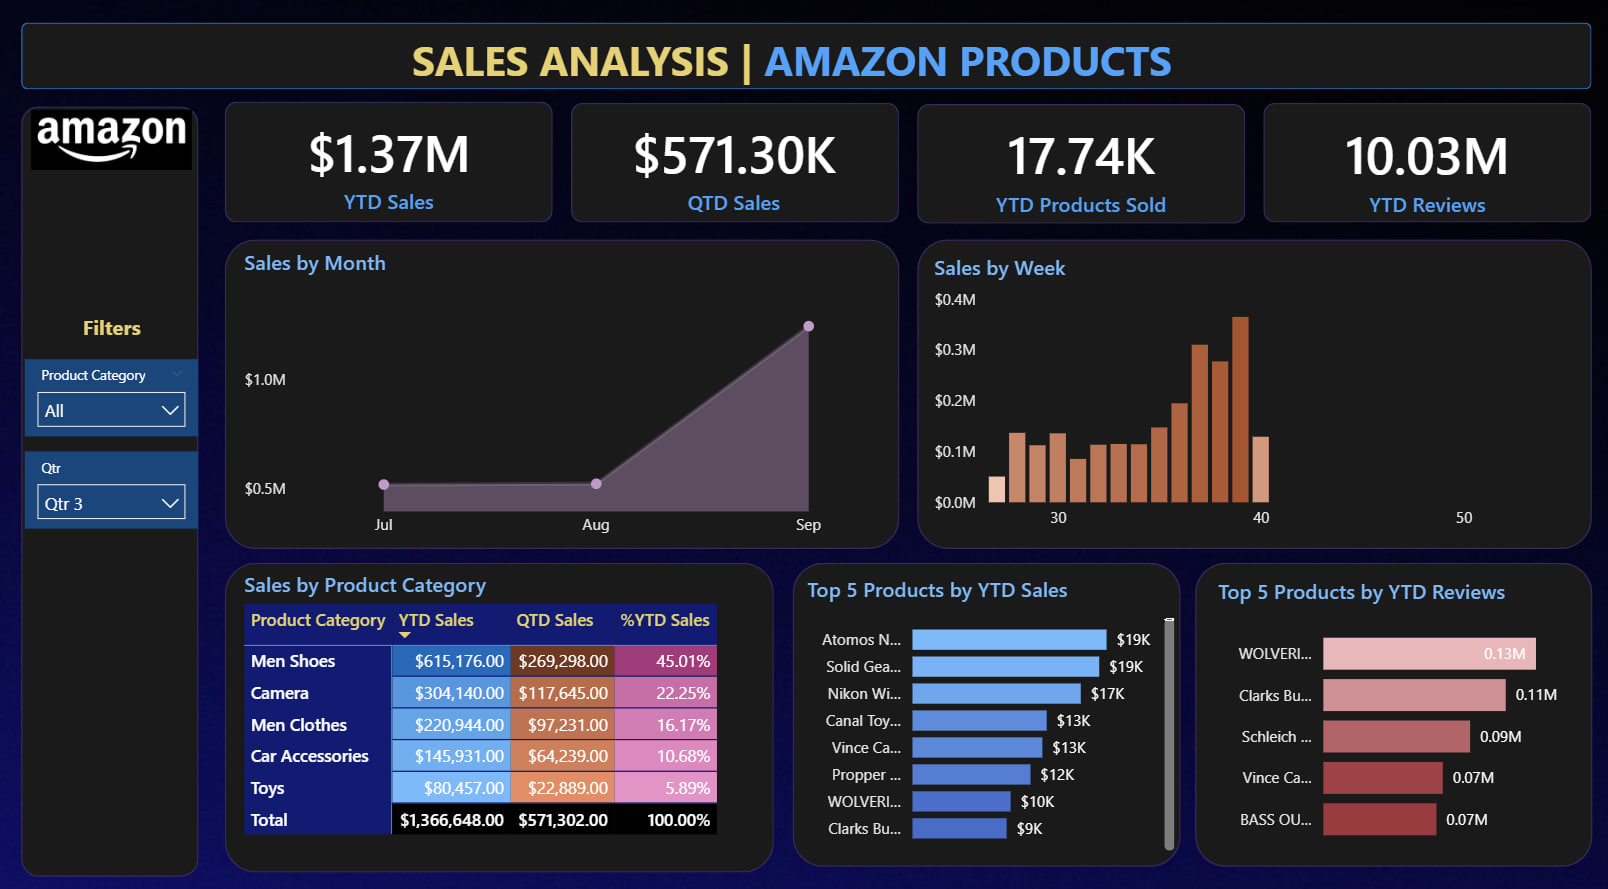

What the dashboard file says about the page in this screenshot:
{"tool":"powerbi","page":{"name":"Page 1","canvas":[1280,720],"ordinal":0},"visuals":[{"type":"card","fields":{"Values":["Amazon_Data.YTD Sales"]},"box":[180.9,86.4,259.1,96.4],"z":0,"group":"g1"},{"type":"shape","box":[20,88.2,140,608.2],"z":0},{"type":"card","fields":{"Values":["Amazon_Data.QTD Sales"]},"box":[453.6,87.3,259.1,96.4],"z":1000,"group":"g1"},{"type":"shape","box":[20,21.4,1240,52.9],"z":1000},{"type":"card","fields":{"Values":["Amazon_Data.YTD Products Sold"]},"box":[727.3,88.2,259.1,96.4],"z":2000,"group":"g1"},{"type":"textbox","box":[314,17,611,62.4],"z":2000},{"type":"card","fields":{"Values":["Amazon_Data.YTD Reviews"]},"box":[1000.9,88.2,259.1,96.4],"z":3000,"group":"g1"},{"type":"shape","box":[181.1,84.4,258.9,95.6],"z":3000},{"type":"shape","box":[1000.9,85.5,259.1,94.5],"z":4000},{"type":"shape","box":[727.6,86.4,259.1,94.5],"z":5000},{"type":"shape","box":[454.2,85.5,259.1,94.5],"z":6000},{"type":"group","id":"g1","title":"Group 1","box":[180.9,86.4,1079.1,98.2],"z":7000},{"type":"shape","box":[180.9,192.7,532.7,244.5],"z":8000},{"type":"areaChart","title":"Sales by Month","fields":{"Category":["Date Table.Month Name"],"Y":["Sum(Amazon_Data.Price(Dollar))"]},"box":[190.9,199.1,522.7,238.2],"z":9000},{"type":"shape","box":[727.3,192.7,532.7,244.5],"z":10000},{"type":"columnChart","title":"Sales by Week","fields":{"Category":["Date Table.Week"],"Y":["Sum(Amazon_Data.Price(Dollar))"]},"box":[735.5,203.6,515.5,228.2],"z":11000},{"type":"shape","box":[180.9,448.2,433.6,244.5],"z":12000},{"type":"pivotTable","title":"Sales by Product Category","fields":{"Rows":["Amazon_Data.Product Category"],"Values":["Amazon_Data.YTD Sales1","Amazon_Data.QTD Sales","Amazon_Data.YTD Sales"]},"box":[190.9,453.6,428.2,234.5],"z":13000},{"type":"shape","box":[629.1,448.2,306.4,240],"z":14000},{"type":"shape","box":[946.4,448.2,313.6,240],"z":15000},{"type":"clusteredBarChart","title":"Top 5 Products by YTD Sales","fields":{"Category":["Amazon_Data.Product Description"],"Y":["Amazon_Data.YTD Sales"]},"box":[635.5,458.2,300,222.7],"z":16000},{"type":"clusteredBarChart","title":"Top 5 Products by YTD Reviews","fields":{"Category":["Amazon_Data.Product Description"],"Y":["Amazon_Data.YTD Reviews"]},"box":[960,460,300,222.7],"z":17000},{"type":"image","box":[22.7,24.5,137.3,179.1],"z":18000},{"type":"slicer","fields":{"Values":["Amazon_Data.Product Category"]},"box":[22.7,287.3,137.3,60.9],"z":19000},{"type":"slicer","fields":{"Values":["Date Table.Qtr"]},"box":[22.7,360,137.3,60.9],"z":20000},{"type":"textbox","box":[22.7,246.4,137.3,40.9],"z":21000}]}

Visuals, with their boxes in screenshot pixels (x1, y1, x2, y2), scaled from the page's 1280x720 canvas onto the 1608x889 screenshot:
card - Amazon_Data.YTD Sales: 227:107:553:226
shape: 25:109:201:860
card - Amazon_Data.QTD Sales: 570:108:895:227
shape: 25:26:1583:92
card - Amazon_Data.YTD Products Sold: 914:109:1239:228
textbox: 394:21:1162:98
card - Amazon_Data.YTD Reviews: 1257:109:1583:228
shape: 228:104:553:222
shape: 1257:106:1583:222
shape: 914:107:1240:223
shape: 571:106:896:222
"Group 1" group: 227:107:1583:228
shape: 227:238:896:540
"Sales by Month" areaChart: 240:246:896:540
shape: 914:238:1583:540
"Sales by Week" columnChart: 924:251:1572:533
shape: 227:553:772:855
"Sales by Product Category" pivotTable: 240:560:778:850
shape: 790:553:1175:850
shape: 1189:553:1583:850
"Top 5 Products by YTD Sales" clusteredBarChart: 798:566:1175:841
"Top 5 Products by YTD Reviews" clusteredBarChart: 1206:568:1583:843
image: 29:30:201:251
slicer - Amazon_Data.Product Category: 29:355:201:430
slicer - Date Table.Qtr: 29:444:201:520
textbox: 29:304:201:355
